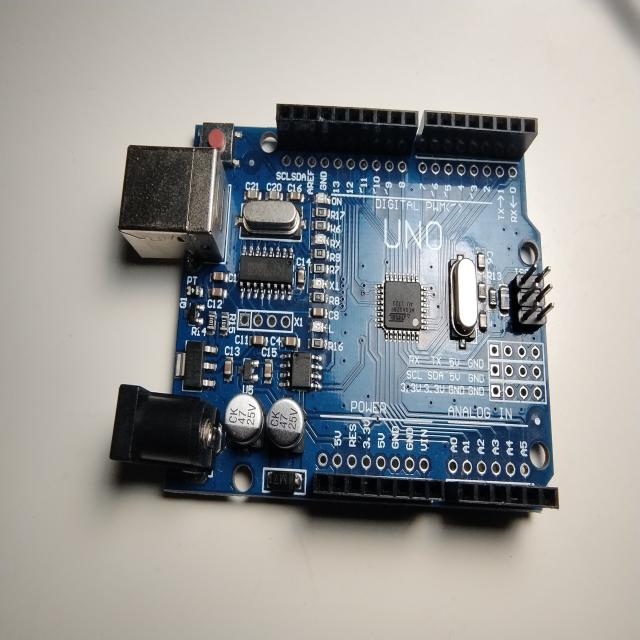arduino: (115, 93, 560, 540)
